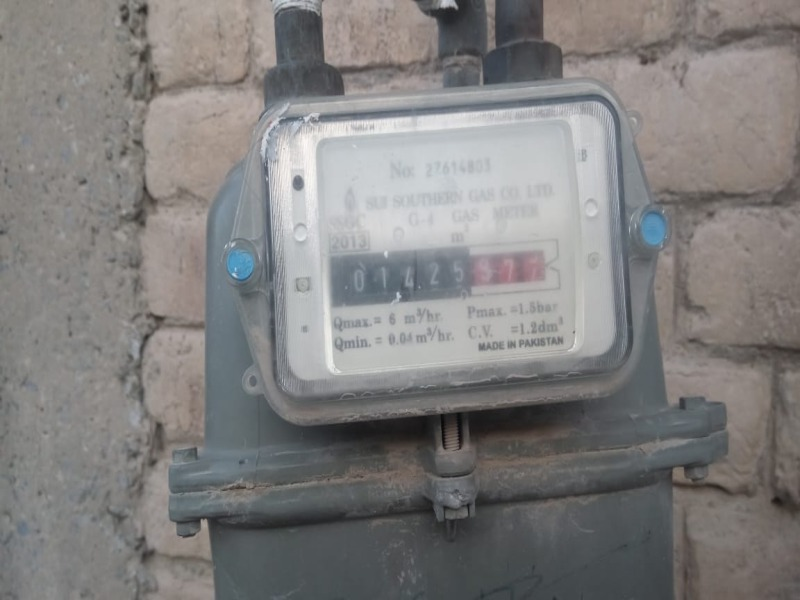ssgc: (340, 251, 552, 298)
